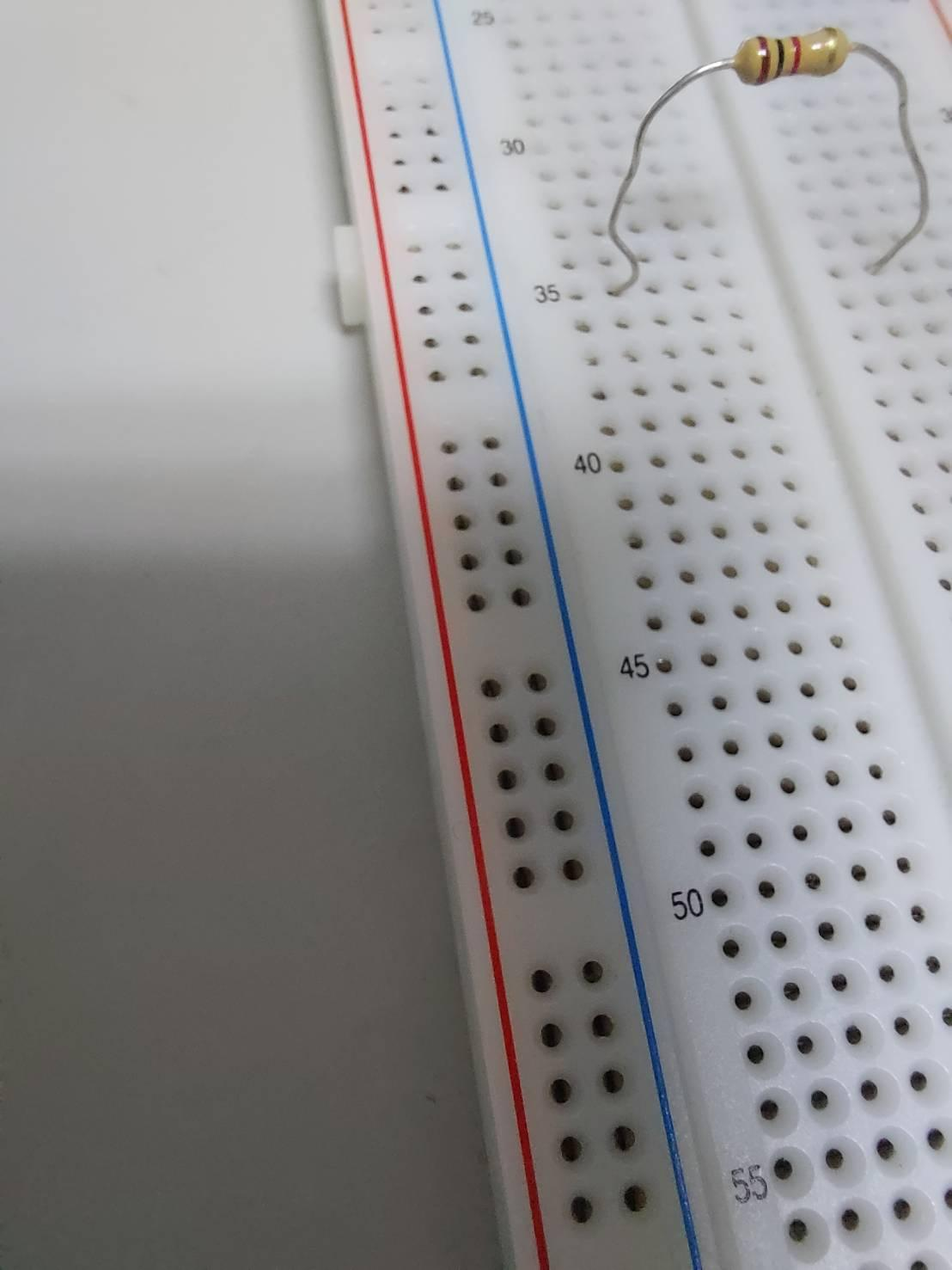resistor: (724, 20, 854, 91)
